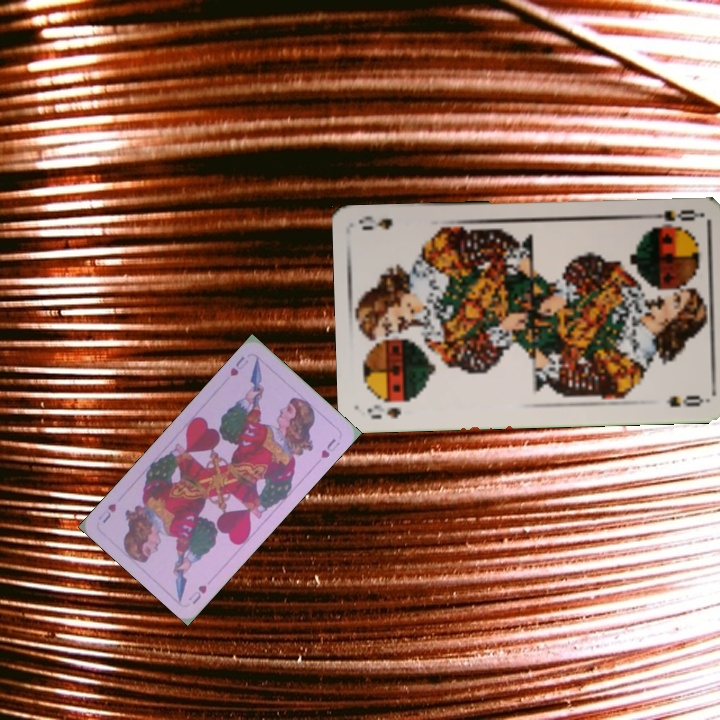HU: (184, 581, 210, 607), (226, 352, 251, 379)
SO: (647, 205, 706, 224), (363, 400, 403, 421)
